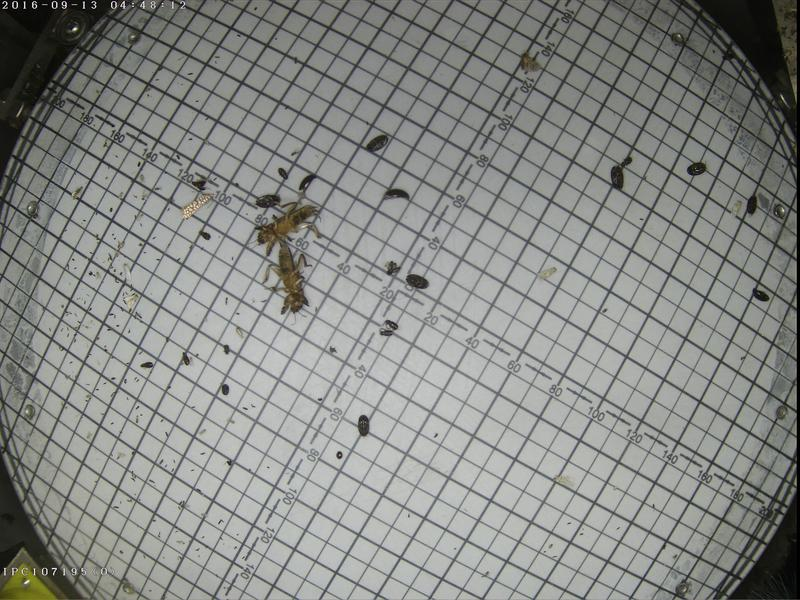Gryllotalpa orientalis: (262, 245, 316, 325), (246, 201, 321, 249)
